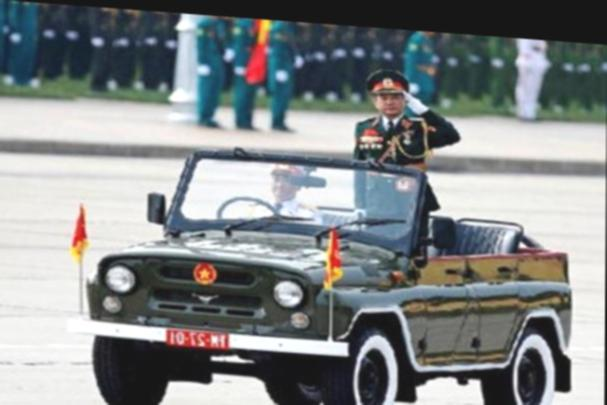License_Plate: (165, 327, 231, 350)
